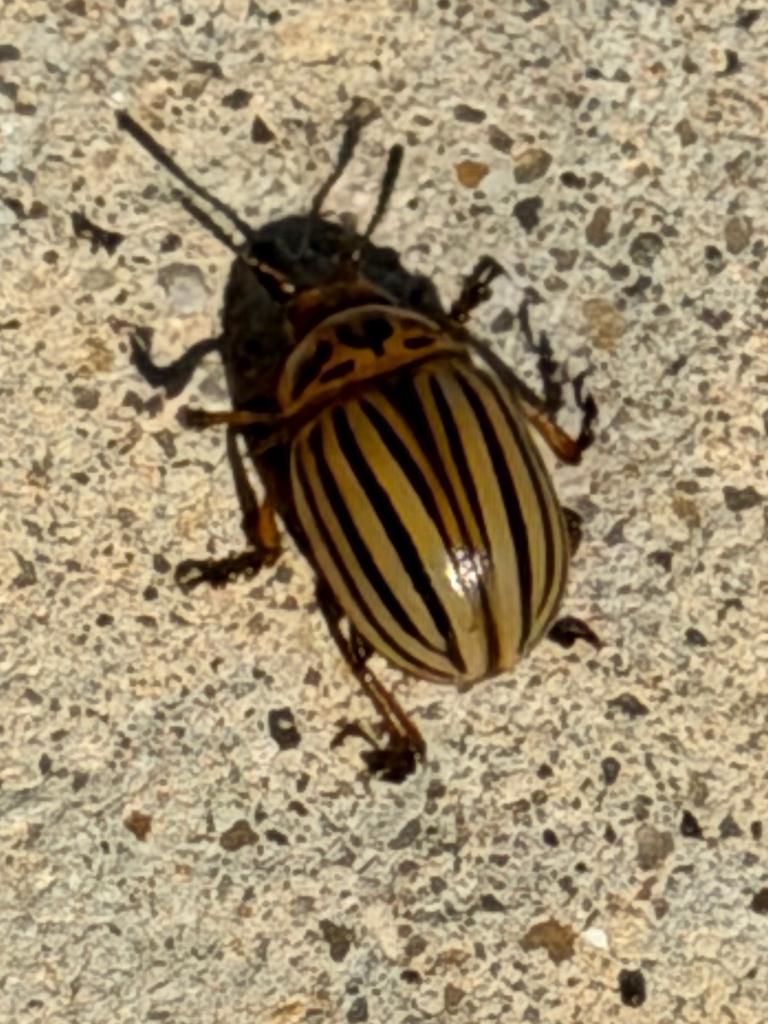potato_beetle: (87, 111, 687, 862)
